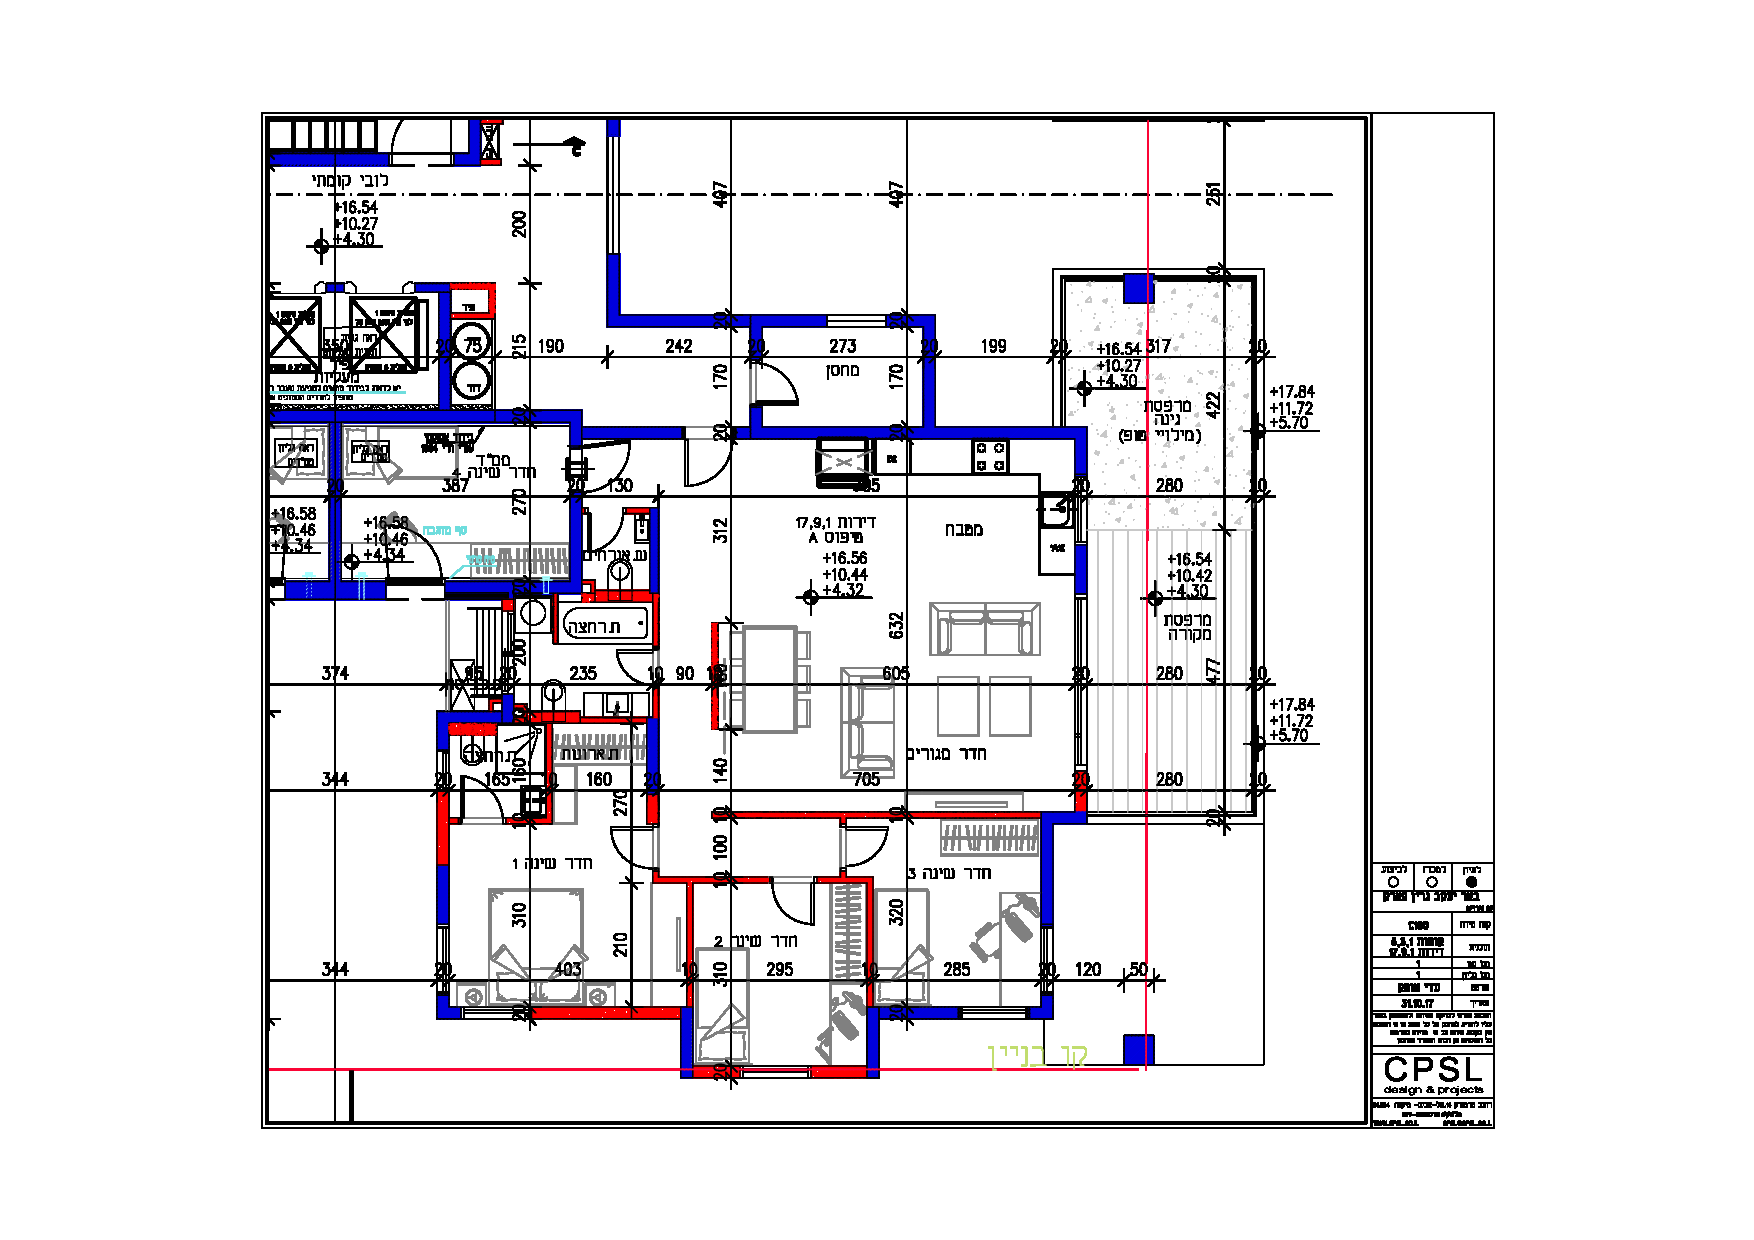door: (675, 447, 730, 497), (764, 356, 819, 405), (768, 886, 823, 935), (854, 824, 895, 871)
window: (607, 137, 619, 254), (960, 1005, 1033, 1020), (827, 313, 886, 327)
